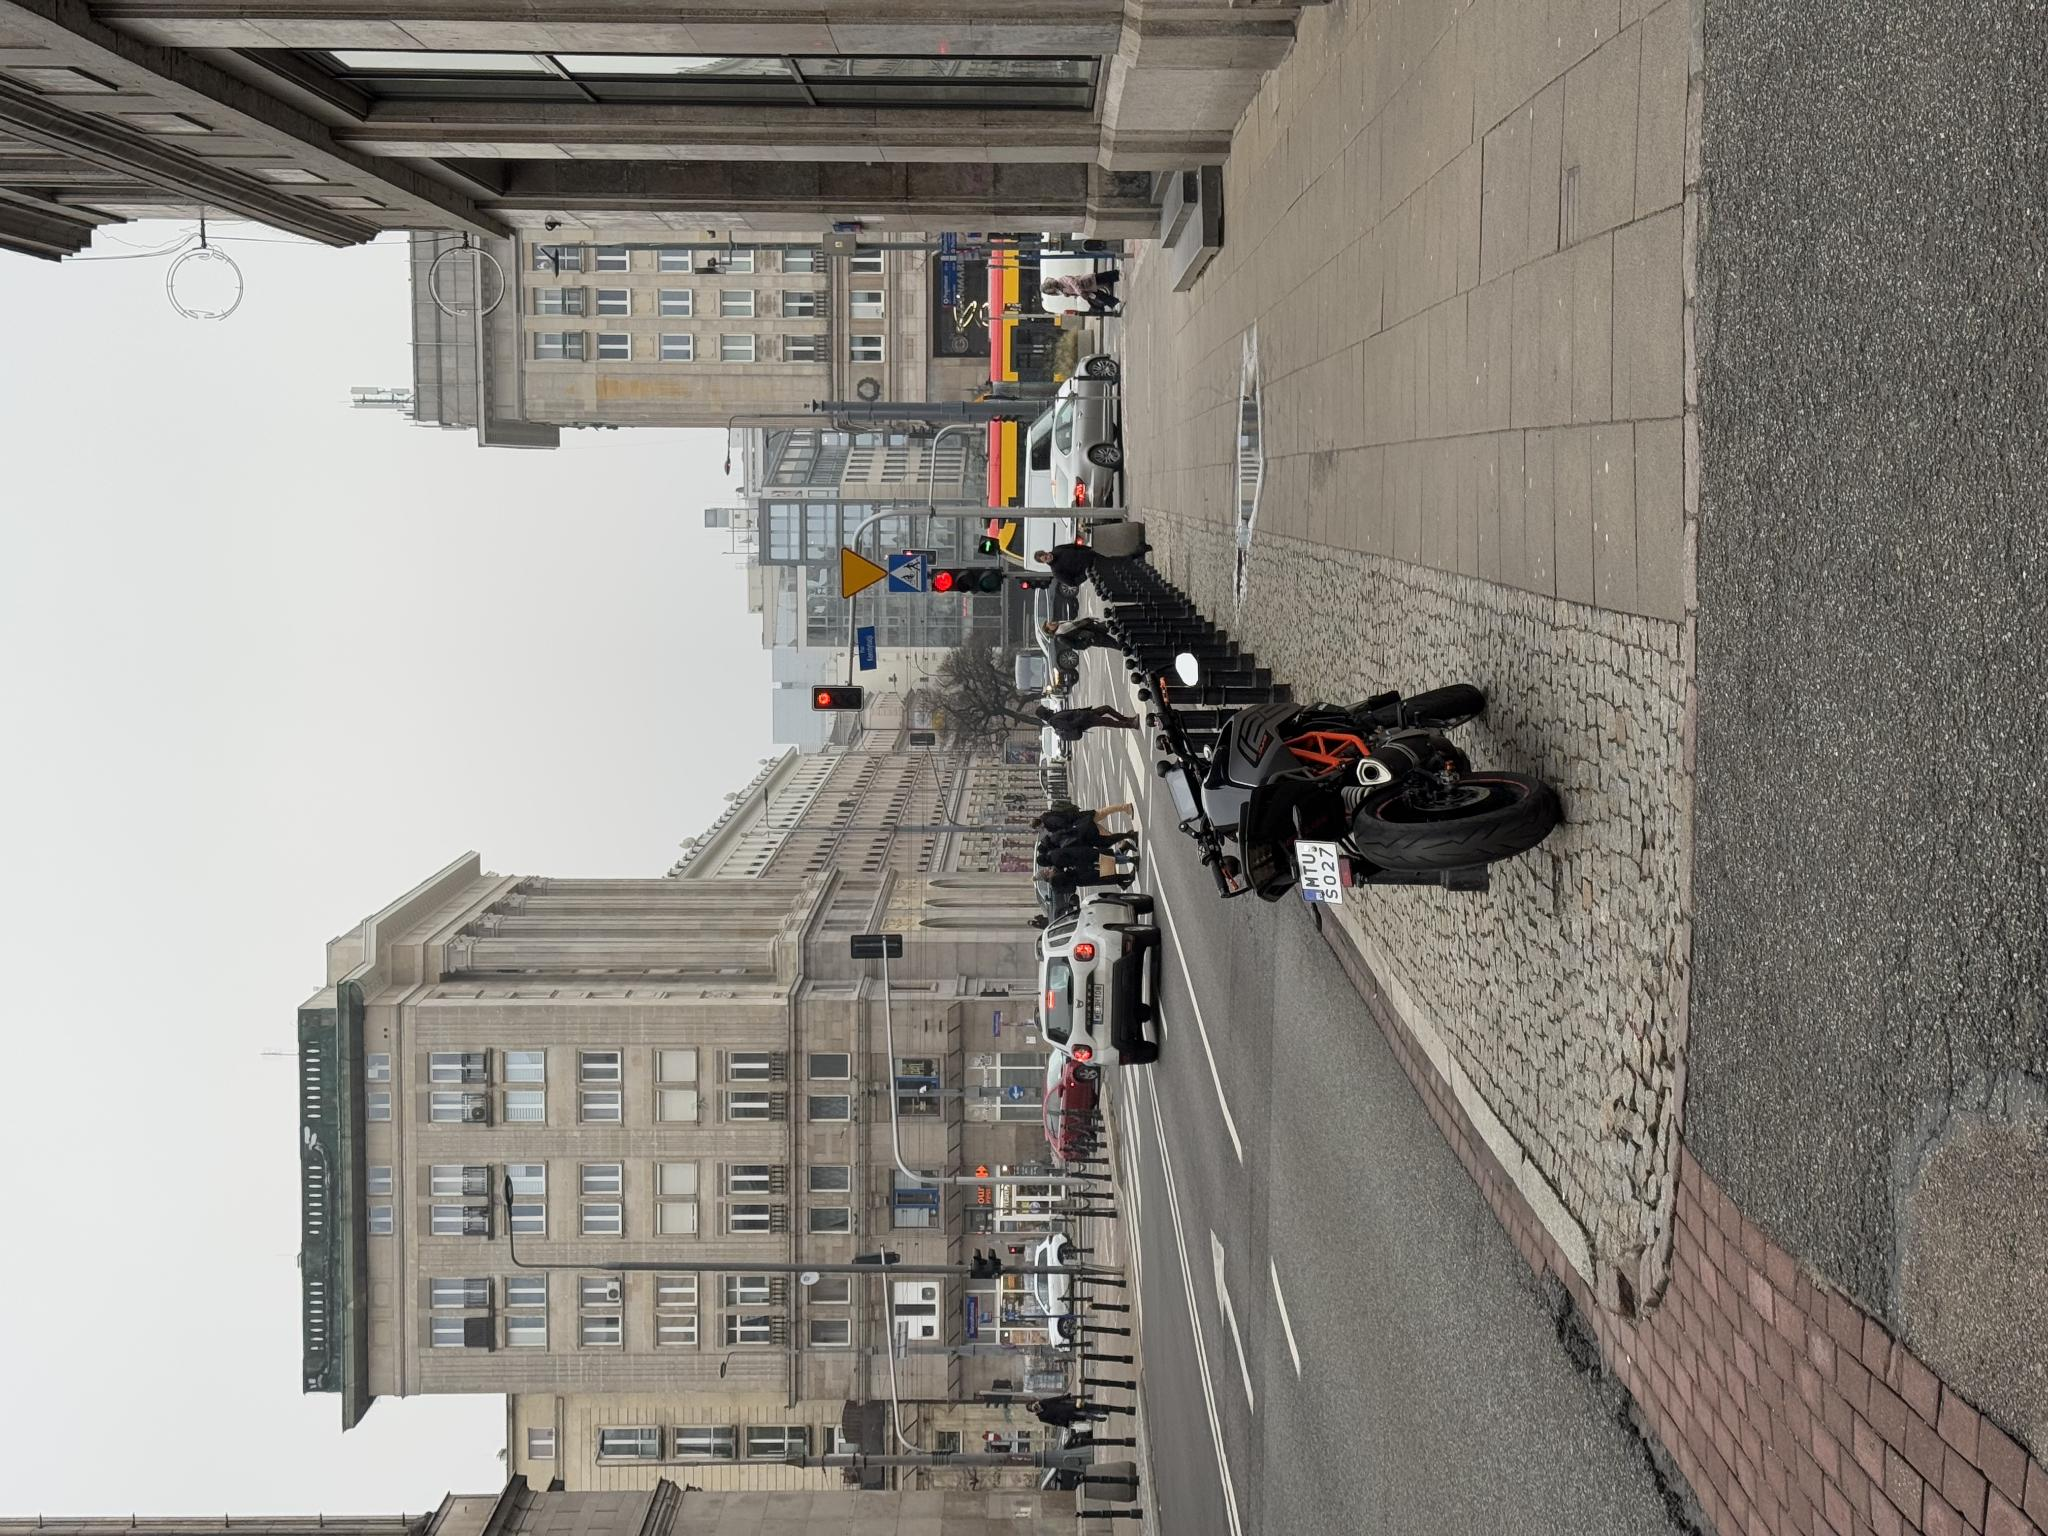information: (942, 887, 982, 928)
mandatory: (435, 1008, 452, 1025)
prohibitory: (95, 981, 103, 1000)
warning: (937, 841, 990, 889)
